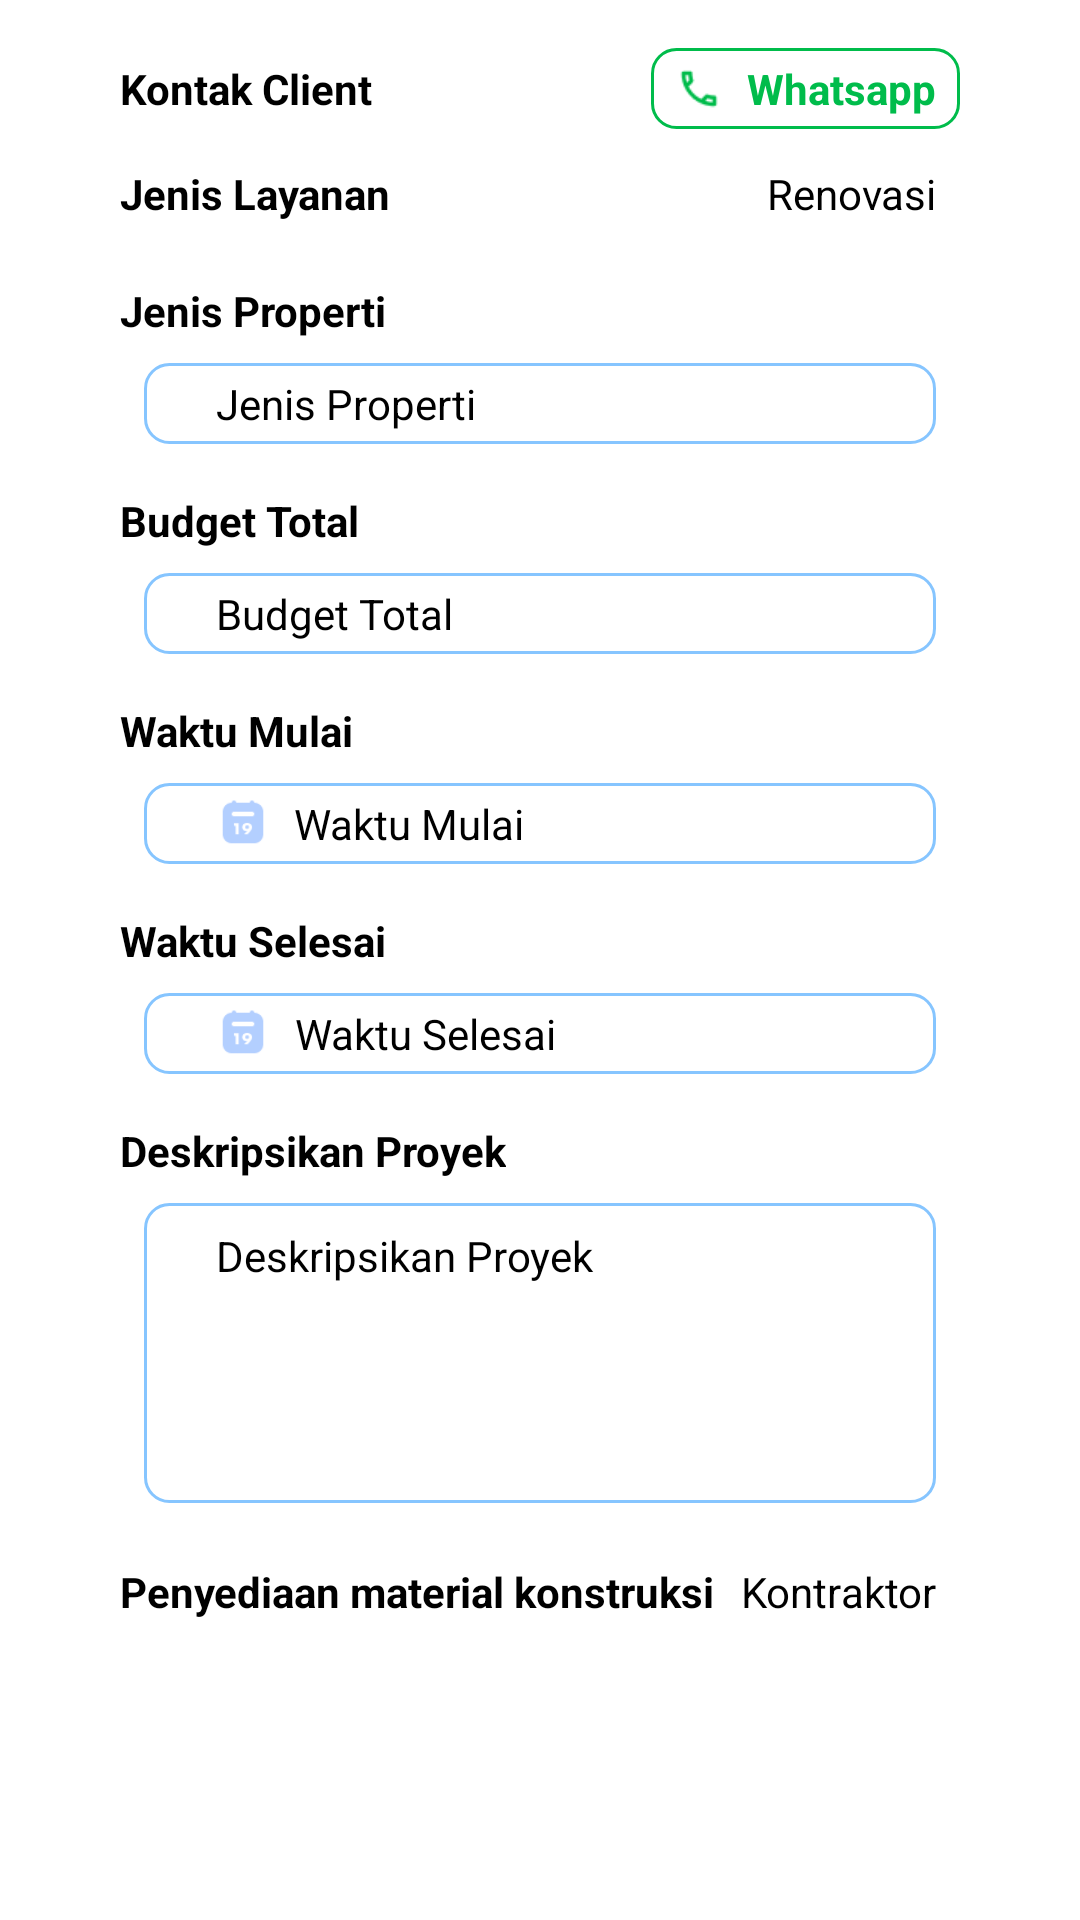

Icon bounding boxes for this 1080px×1920px phone screenshot, format BBox(x1, y1, x2, y2):
calendar: BBox(223, 800, 263, 843), BBox(223, 1010, 263, 1053)
